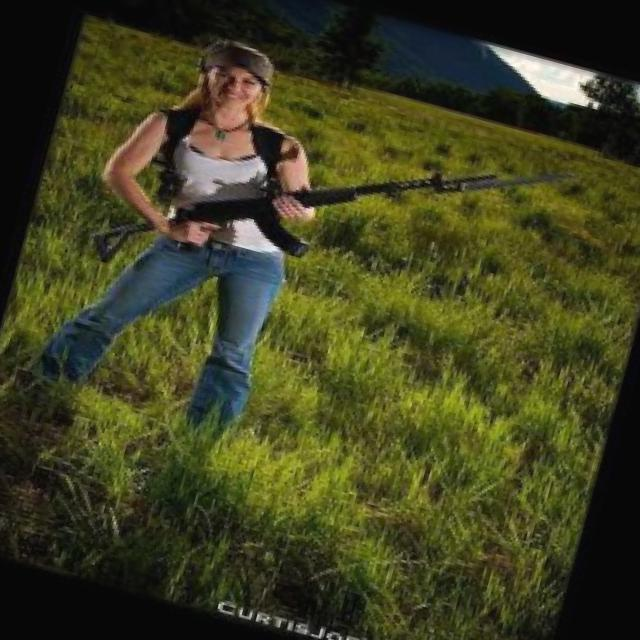long weapon: (73, 142, 585, 294)
